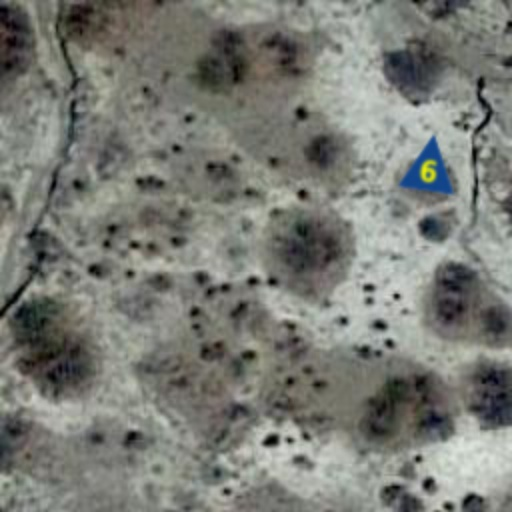triangle: (396, 128, 464, 196)
